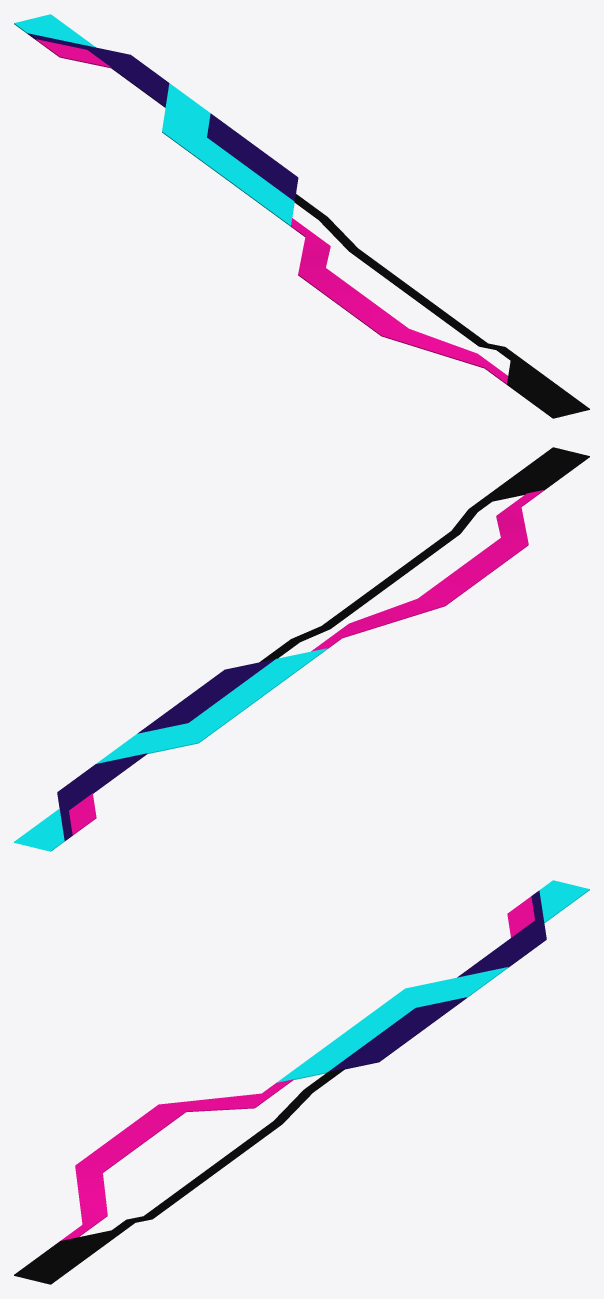
The model's file is Ramp-Right-High.FBX.
3 views of the same model, one above another, from view 1: azimuth 30°, elevation 25°; view 2: azimuth 150°, elevation 25°; view 3: azimuth 330°, elevation 25° (orthographic).
Parts seen in each view (by area): view 1: Ramp Right High; view 2: Ramp Right High; view 3: Ramp Right High.
Boxes of the visible parts, x1,y1,x2,y2 form: Ramp Right High: [14, 14, 589, 418]; Ramp Right High: [14, 447, 589, 851]; Ramp Right High: [14, 880, 589, 1284].
Bounding box in the file's own units: 2400 × 20282 × 430.
